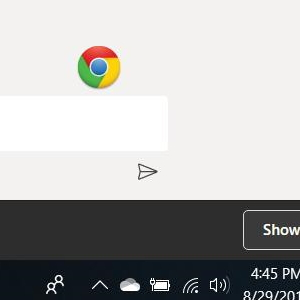chrome: (77, 45, 121, 89)
